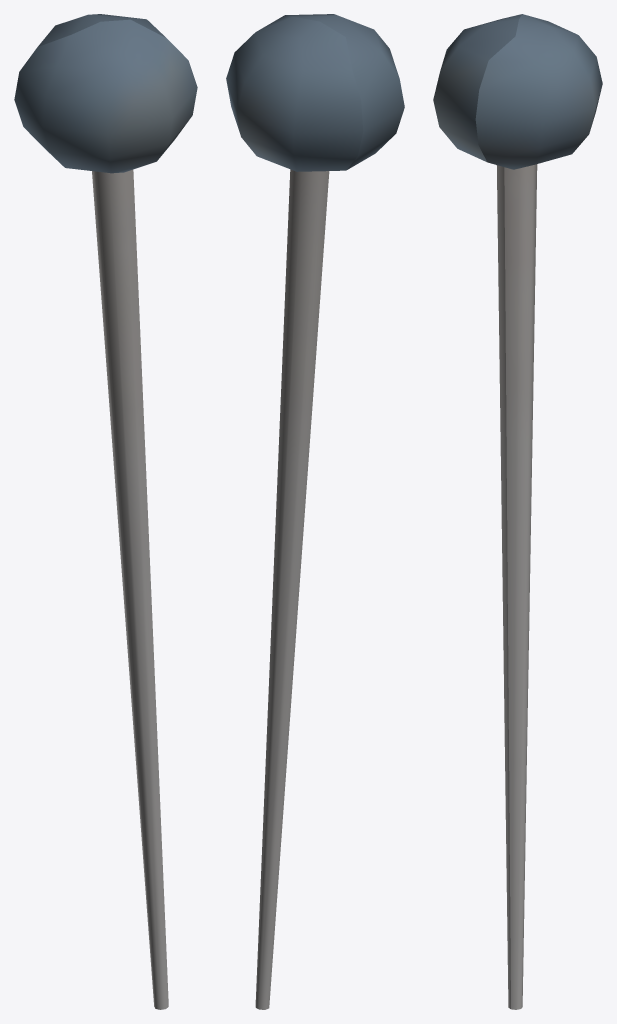
Rendered from SM_Farm_Pin_03.fbx.
3 renders of one model, left to right at view 1: azimuth 30°, elevation 25°; view 2: azimuth 150°, elevation 25°; view 3: azimuth 270°, elevation 25°, orthographic. The views are drawn at different scales.
Parts seen in each view (by area): view 1: SM_Farm_Pin_03_LOD0; view 2: SM_Farm_Pin_03_LOD0; view 3: SM_Farm_Pin_03_LOD0.
Part boxes in pixels (x1,y1,x2,y2): SM_Farm_Pin_03_LOD0: (14,14,197,1009); SM_Farm_Pin_03_LOD0: (226,14,404,1009); SM_Farm_Pin_03_LOD0: (433,14,602,1009).
Bounding box in the file's own units: 2.3 × 14.41 × 2.31.
